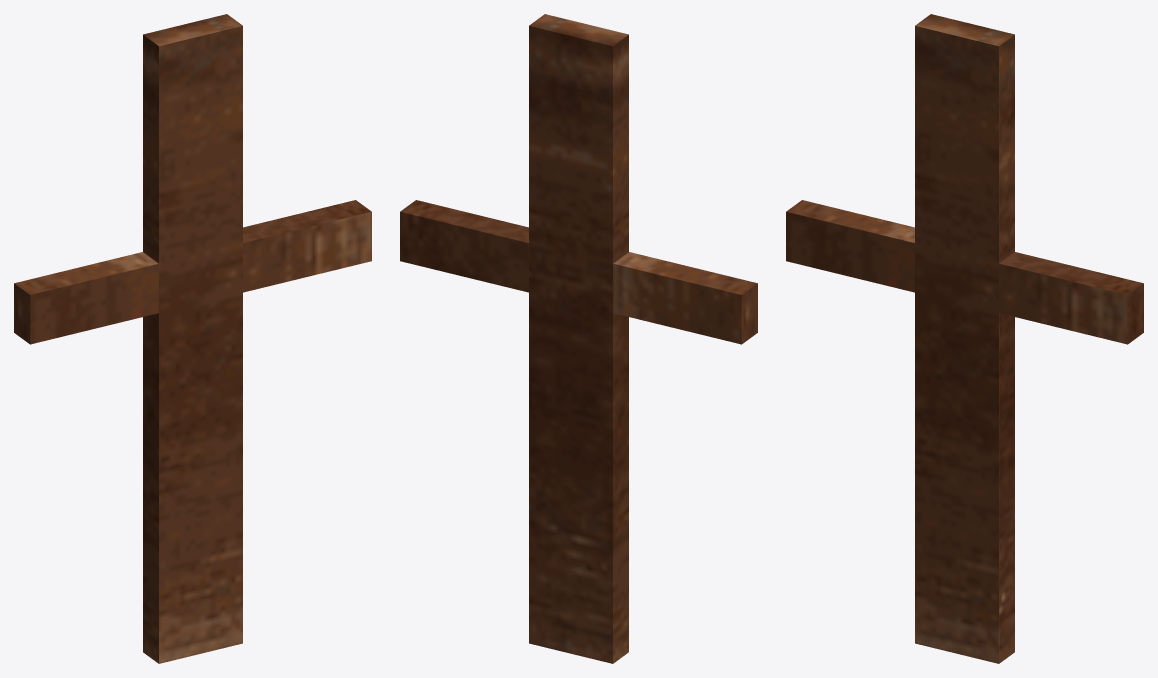
Rendered from cross.fbx.
3 views of the same model, side by side, from view 1: azimuth 30°, elevation 25°; view 2: azimuth 150°, elevation 25°; view 3: azimuth 330°, elevation 25° (orthographic).
Visible parts, largest first — view 1: Cube.005; view 2: Cube.005; view 3: Cube.005.
Boxes of the visible parts, x1,y1,x2,y2 form: Cube.005: (14, 14, 371, 663); Cube.005: (400, 14, 757, 663); Cube.005: (786, 14, 1143, 663).
Bounding box in the file's own units: 91.73 × 158 × 7.49.
